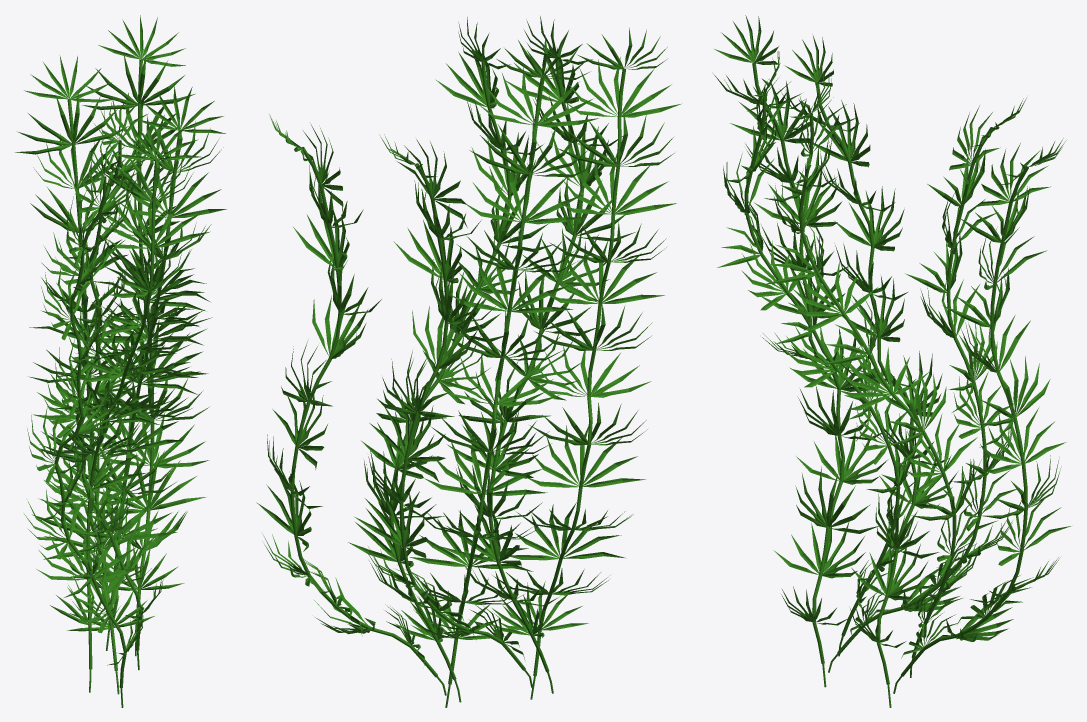
Rendered from dropwort.obj.
3 views of the same model, side by side, from view 1: azimuth 30°, elevation 25°; view 2: azimuth 150°, elevation 25°; view 3: azimuth 270°, elevation 25° (orthographic). The views are drawn at different scales.
Visible parts, largest first — view 1: aquatic06; view 2: aquatic06; view 3: aquatic06.
Boxes of the visible parts, x1,y1,x2,y2 form: aquatic06: [15, 15, 226, 707]; aquatic06: [256, 16, 680, 707]; aquatic06: [714, 15, 1070, 707].
Size of the model in its own units: 3.77 by 8.12 by 4.12.
